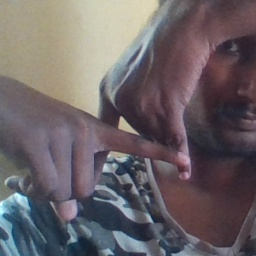H: (67, 85, 201, 204)
